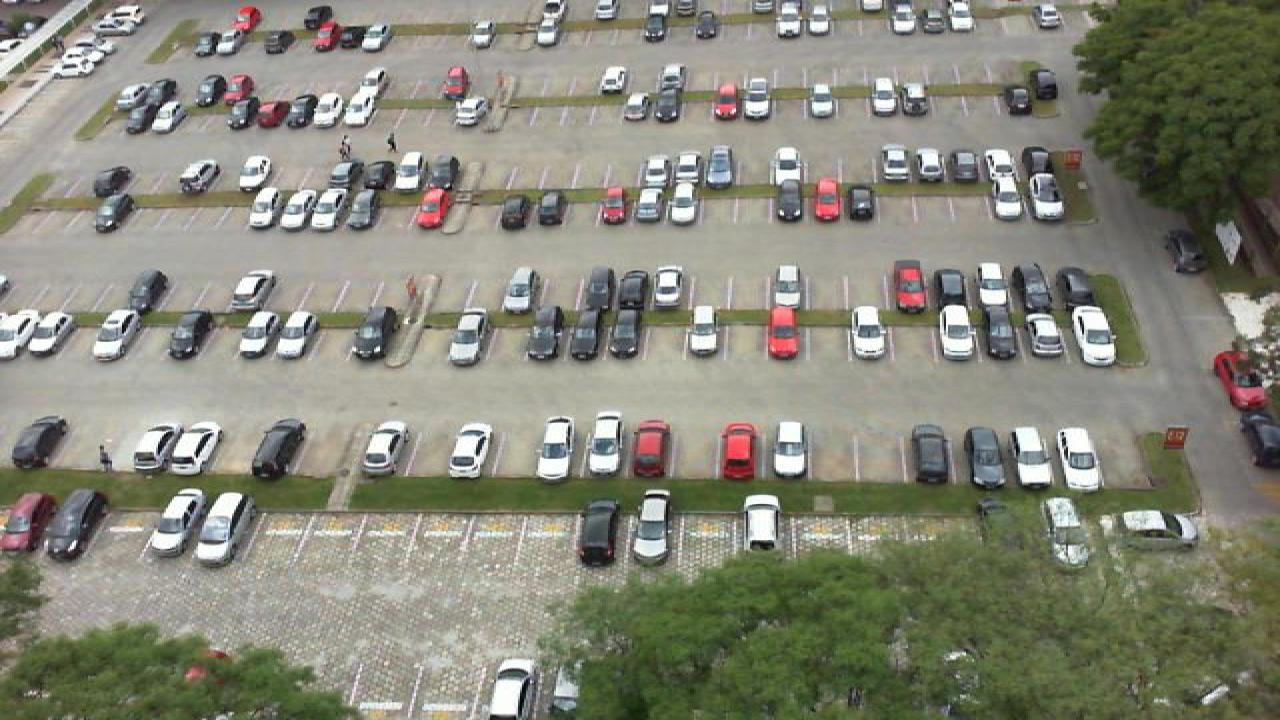Car: (194, 488, 258, 566), (44, 487, 110, 561), (144, 487, 206, 557), (1040, 495, 1096, 567), (250, 417, 308, 481), (1212, 349, 1268, 415), (960, 424, 1014, 491), (630, 488, 676, 566), (1110, 510, 1202, 549), (1052, 425, 1104, 493), (1068, 301, 1120, 368), (0, 490, 52, 554), (1010, 424, 1058, 493), (168, 420, 226, 477), (10, 415, 70, 470), (488, 657, 538, 720), (574, 498, 620, 566), (534, 415, 580, 483), (358, 418, 410, 476), (906, 423, 954, 484), (352, 304, 400, 362), (130, 423, 182, 476), (586, 411, 628, 476), (448, 419, 494, 478), (1022, 304, 1068, 363), (92, 309, 144, 361), (166, 307, 214, 362), (742, 494, 786, 553), (630, 419, 674, 478), (936, 303, 980, 362), (1236, 413, 1280, 470), (20, 310, 74, 356), (770, 419, 812, 478), (720, 420, 760, 481), (448, 308, 490, 366), (526, 304, 568, 362), (762, 303, 804, 360), (848, 303, 890, 359), (236, 310, 282, 360), (890, 259, 930, 315), (272, 312, 318, 360), (1010, 261, 1056, 309), (982, 303, 1020, 361), (566, 305, 606, 360), (606, 304, 646, 359), (932, 265, 976, 315), (684, 304, 724, 358), (1028, 171, 1070, 222), (1164, 226, 1208, 274), (574, 264, 616, 314), (228, 268, 278, 310), (986, 173, 1028, 222), (124, 268, 170, 312), (500, 265, 540, 315), (808, 175, 846, 225), (308, 188, 350, 232), (92, 191, 136, 233), (770, 262, 810, 308), (496, 189, 538, 232), (276, 187, 316, 232), (0, 309, 36, 358), (974, 264, 1012, 310), (614, 266, 652, 312), (246, 186, 284, 232), (410, 188, 448, 232), (652, 264, 688, 310), (176, 158, 222, 194), (666, 180, 702, 225), (1058, 261, 1094, 305), (346, 187, 382, 231), (240, 156, 284, 192), (866, 75, 902, 118), (768, 182, 804, 224), (702, 144, 736, 188), (876, 144, 914, 183), (630, 185, 666, 226), (392, 151, 428, 191), (422, 156, 462, 192), (770, 145, 806, 185), (114, 98, 154, 134), (94, 164, 136, 198), (342, 93, 380, 130), (596, 185, 630, 226), (946, 146, 982, 184), (1016, 143, 1052, 181), (222, 94, 260, 130), (710, 81, 744, 121), (670, 148, 704, 187), (844, 184, 878, 222), (804, 81, 838, 119), (982, 146, 1018, 181), (356, 66, 390, 103), (770, 0, 802, 39), (912, 148, 948, 182), (144, 76, 178, 112), (888, 0, 922, 36), (538, 190, 570, 228), (332, 158, 370, 190), (146, 103, 184, 135), (450, 95, 488, 127), (654, 63, 690, 96), (802, 0, 834, 37), (1028, 68, 1062, 102), (192, 97, 228, 129), (596, 64, 632, 96), (438, 64, 470, 100), (638, 153, 672, 186), (1002, 83, 1036, 116), (652, 89, 684, 124), (364, 158, 398, 190), (314, 94, 346, 128), (620, 91, 654, 123), (222, 73, 256, 105), (944, 0, 976, 34), (110, 80, 148, 108), (194, 73, 226, 106), (80, 38, 124, 62), (900, 85, 934, 116), (286, 97, 318, 129), (690, 10, 722, 42), (358, 22, 390, 53), (624, 11, 654, 44), (256, 99, 288, 129), (216, 28, 248, 58), (230, 4, 262, 34), (742, 88, 772, 119), (58, 53, 98, 76), (306, 27, 340, 54), (1034, 1, 1064, 30), (532, 16, 560, 46), (264, 29, 296, 55), (304, 5, 334, 31), (100, 19, 140, 38), (190, 32, 220, 57), (110, 4, 148, 23), (540, 0, 568, 18)
